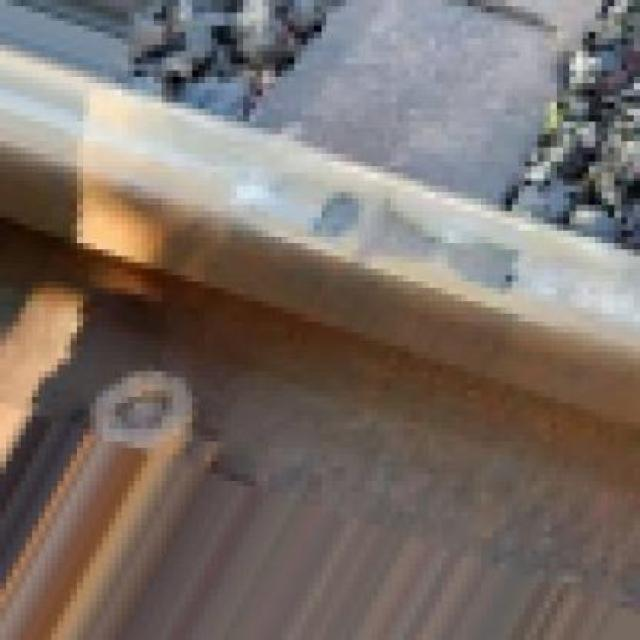defective: (200, 95, 640, 430)
